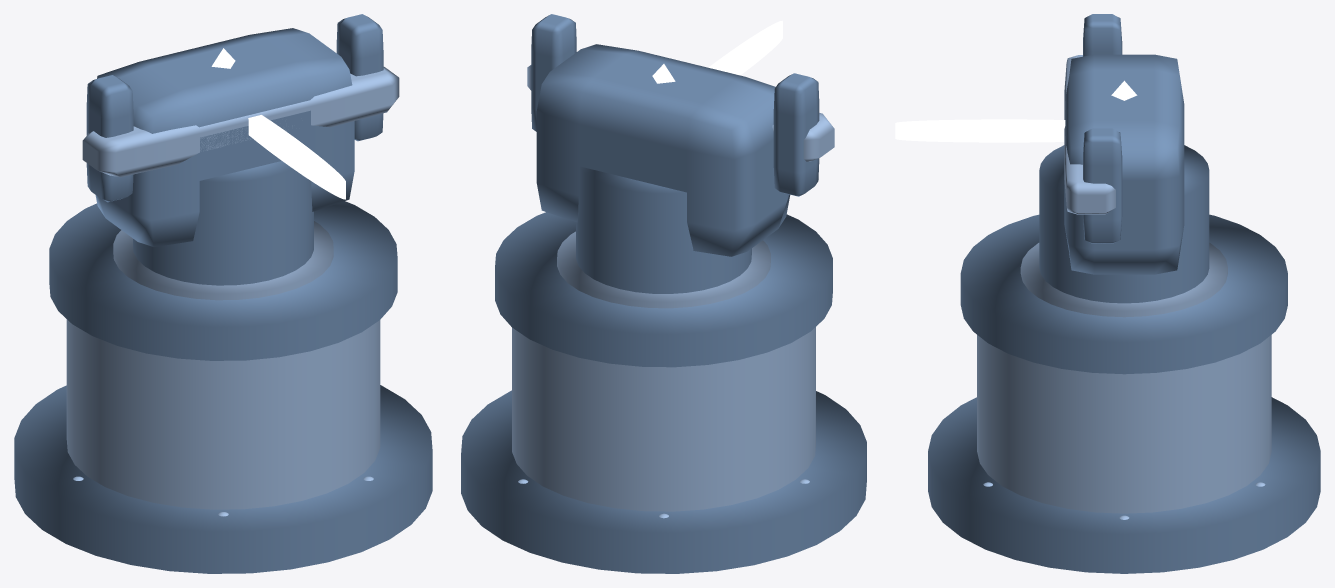
File: ballista_l4.glb
3 views of the same model, side by side, from view 1: azimuth 30°, elevation 25°; view 2: azimuth 150°, elevation 25°; view 3: azimuth 270°, elevation 25° (orthographic). The views are drawn at different scales.
Visible parts, largest first — view 1: base, footing, baseCollar, frame, shaft, crossbow, lowerTrim, armL, armR, bolt; view 2: base, frame, footing, baseCollar, shaft, armL, lowerTrim, armR, bolt, crossbow; view 3: base, footing, baseCollar, frame, shaft, lowerTrim, bolt, armR, crossbow, armL.
Boxes of the visible parts, left/top/right/bottom form: base: left=66, top=319, right=380, bottom=509; footing: left=14, top=385, right=432, bottom=573; baseCollar: left=49, top=201, right=397, bottom=360; frame: left=95, top=28, right=354, bottom=246; shaft: left=133, top=161, right=313, bottom=285; crossbow: left=82, top=67, right=399, bottom=177; lowerTrim: left=113, top=221, right=333, bottom=300; armL: left=86, top=75, right=133, bottom=202; armR: left=336, top=14, right=383, bottom=141; bolt: left=248, top=115, right=345, bottom=199; base: left=512, top=327, right=815, bottom=511; frame: left=536, top=44, right=790, bottom=256; footing: left=461, top=390, right=866, bottom=573; baseCollar: left=495, top=212, right=832, bottom=367; shaft: left=576, top=166, right=751, bottom=293; armL: left=773, top=73, right=819, bottom=196; lowerTrim: left=557, top=231, right=770, bottom=308; armR: left=531, top=14, right=576, bottom=131; bolt: left=708, top=20, right=782, bottom=75; crossbow: left=527, top=65, right=834, bottom=161; base: left=977, top=335, right=1271, bottom=513; footing: left=928, top=397, right=1320, bottom=573; baseCollar: left=960, top=214, right=1287, bottom=374; frame: left=1064, top=54, right=1184, bottom=274; shaft: left=1039, top=145, right=1209, bottom=303; lowerTrim: left=1020, top=242, right=1227, bottom=317; bolt: left=895, top=119, right=1065, bottom=142; armR: left=1083, top=128, right=1122, bottom=243; crossbow: left=1064, top=55, right=1115, bottom=214; armL: left=1083, top=14, right=1122, bottom=56.
Bounding box in the file's own units: 1.8 × 2.1 × 1.95.
